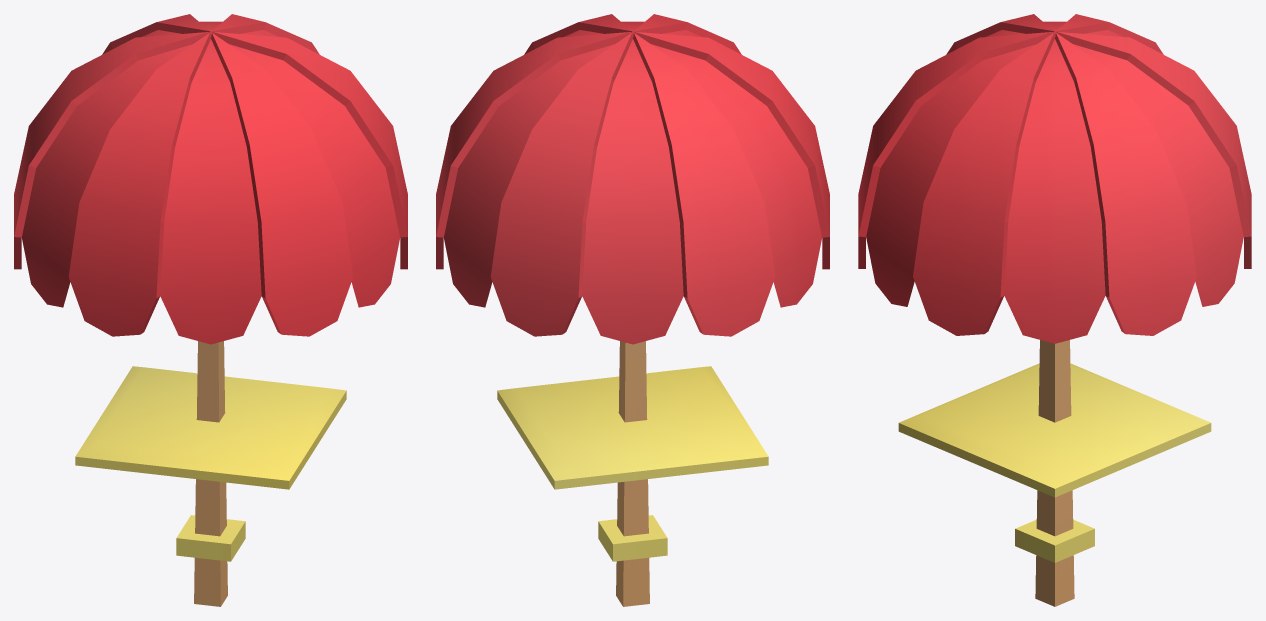
The model's file is Umbrella.fbx.
3 renders of one model, left to right at view 1: azimuth 30°, elevation 25°; view 2: azimuth 150°, elevation 25°; view 3: azimuth 270°, elevation 25°, orthographic.
Visible parts, largest first — view 1: Umbrella_Table_1A; view 2: Umbrella_Table_1A; view 3: Umbrella_Table_1A.
Boxes of the visible parts, x1,y1,x2,y2 form: Umbrella_Table_1A: (14,14,407,606); Umbrella_Table_1A: (436,14,829,606); Umbrella_Table_1A: (858,14,1251,606).
Bounding box in the file's own units: 5875 × 9397 × 5906.
